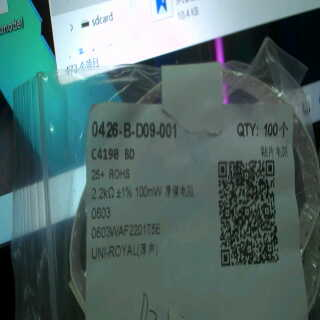2.2kR: (89, 185, 117, 203)
